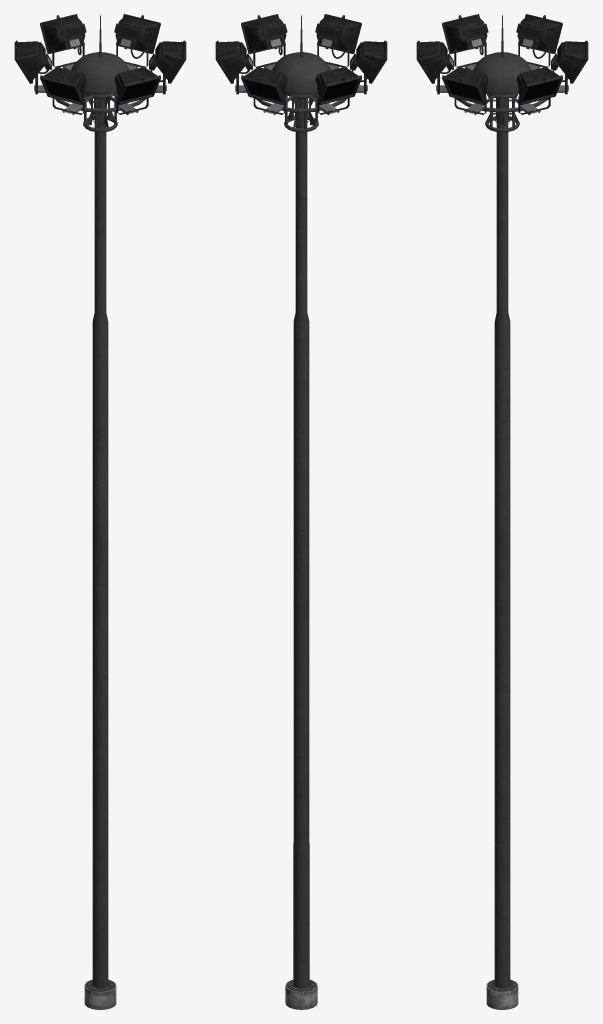
Rendered from FloodLight_O.fbx.
3 views of the same model, side by side, from view 1: azimuth 30°, elevation 25°; view 2: azimuth 150°, elevation 25°; view 3: azimuth 270°, elevation 25° (orthographic).
Visible parts, largest first — view 1: SM_FloodLight_2_LOD0; view 2: SM_FloodLight_2_LOD0; view 3: SM_FloodLight_2_LOD0.
Boxes of the visible parts, box(x1,y1,x2,y2) form: SM_FloodLight_2_LOD0: box(14, 14, 186, 1009); SM_FloodLight_2_LOD0: box(215, 14, 387, 1009); SM_FloodLight_2_LOD0: box(416, 14, 588, 1009).
Size of what is drawn, in the model's own units: 173 by 1117 by 176.
